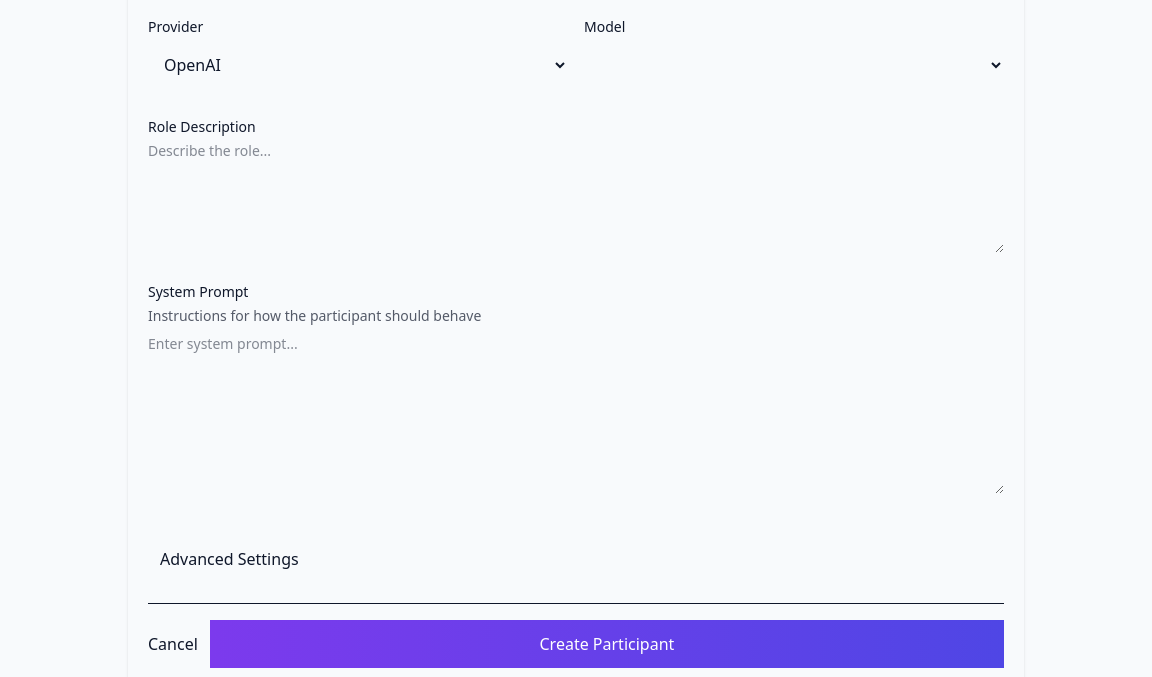
Test case: ParticipantForm › toggles advanced settings visibility
This screenshot has width=1152, height=677.
(page scrolled)
Expected: the slider labelled "temperature" is not shown
Click the button "Advanced Settings" at [229, 551], box [148,523,311,579]
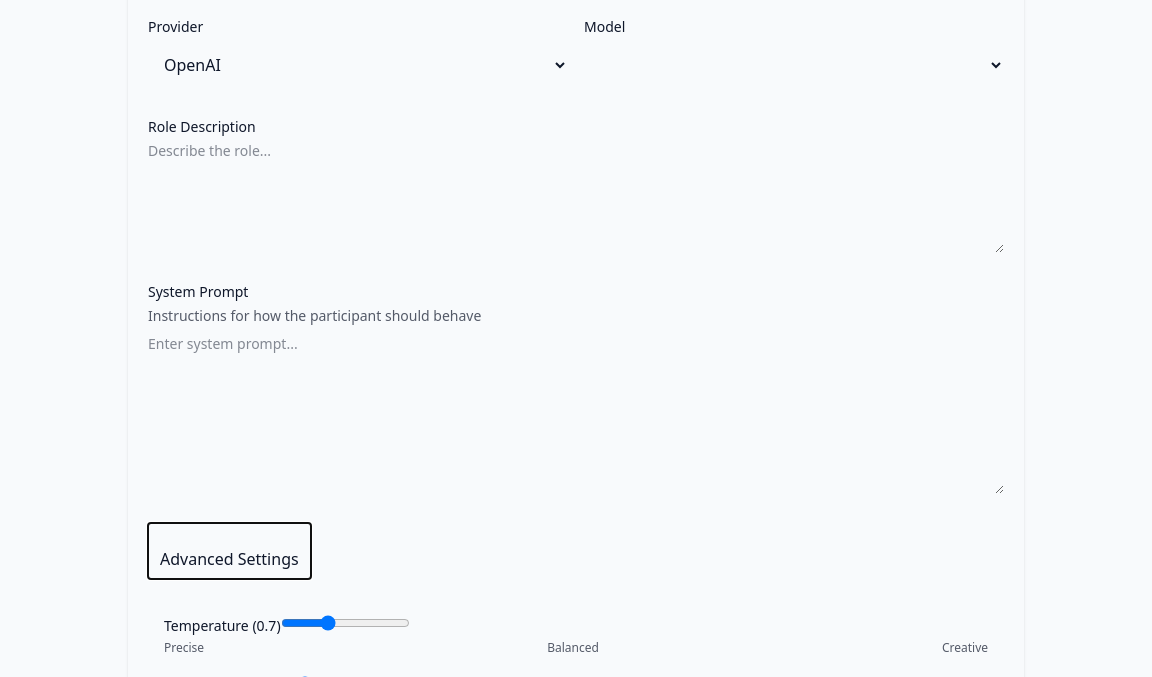
Expected: the slider labelled "Temperature (0.7)" is shown, [281,615,410,631]
Click the button "Advanced Settings" at [229, 551], box [148,523,311,579]
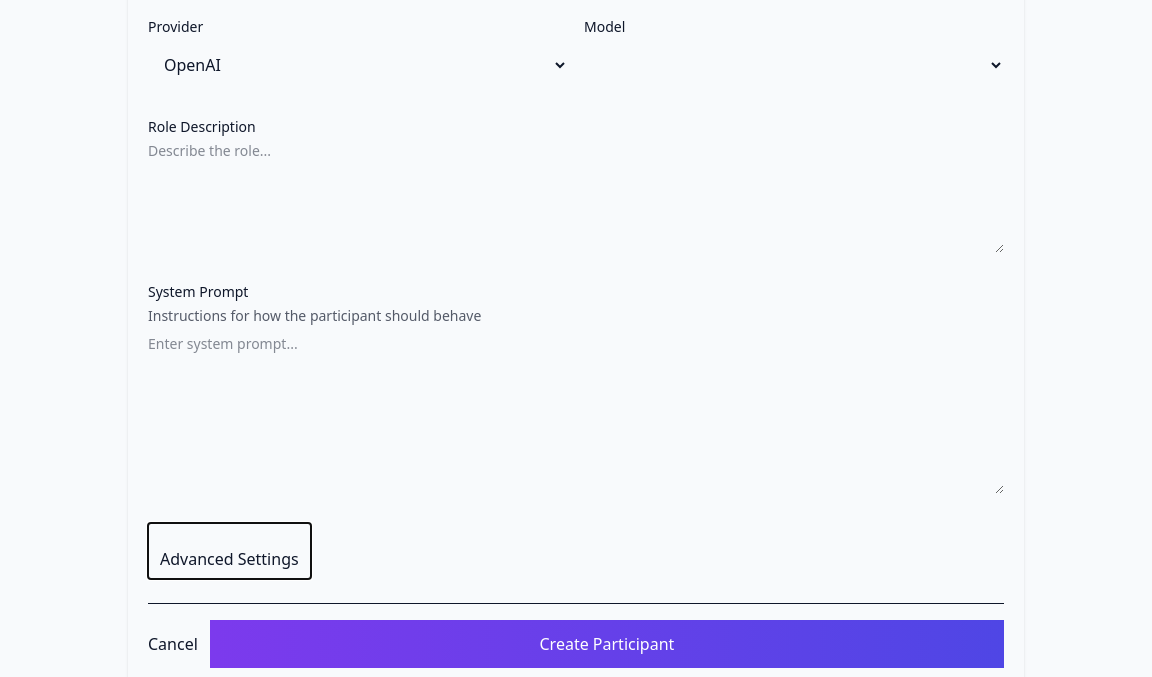
Expected: the label "Temperature" is gone
